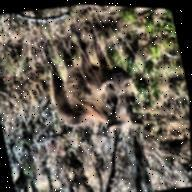boar: (44, 34, 156, 151)
